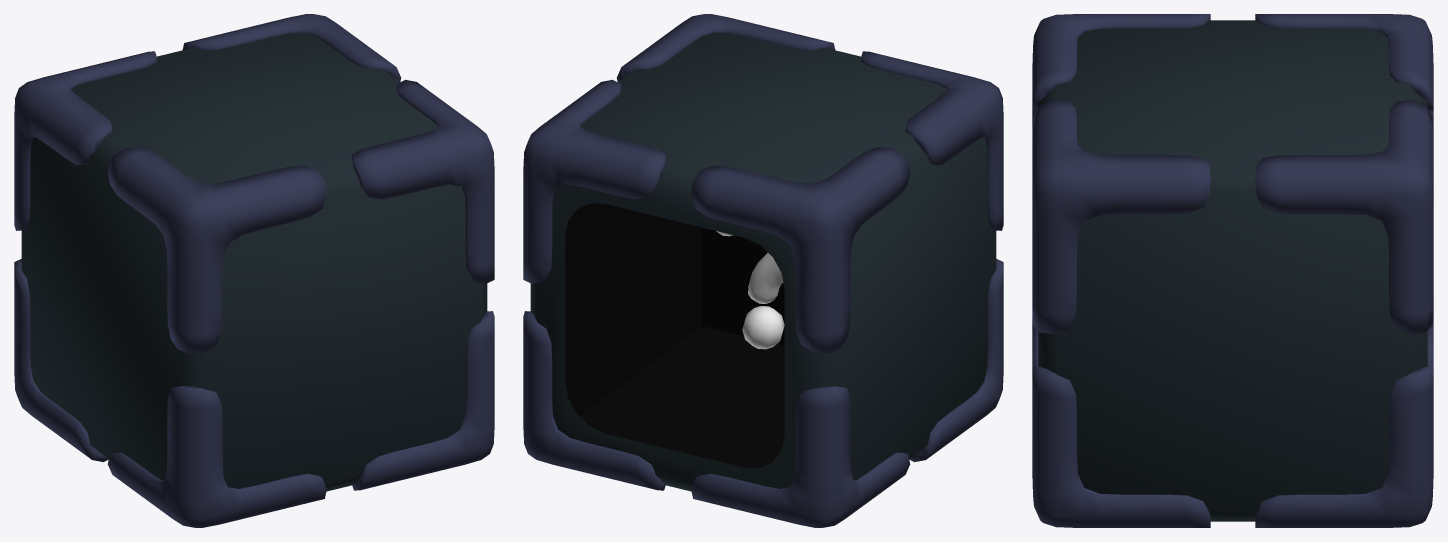
The model's file is blocks_powerup.fbx.
3 views of the same model, side by side, from view 1: azimuth 30°, elevation 25°; view 2: azimuth 150°, elevation 25°; view 3: azimuth 270°, elevation 25° (orthographic). The views are drawn at different scales.
Visible parts, largest first — view 1: Cube.012, Corners; view 2: Cube.012, Corners, inner, questionMark; view 3: Cube.012, Corners.
Part boxes in pixels (x1,y1,x2,y2): Cube.012: (21,32,487,491); Corners: (14,14,494,527); Cube.012: (530,32,996,491); Corners: (523,14,1003,527); inner: (565,203,784,467); questionMark: (716,231,784,349); Cube.012: (1038,20,1427,521); Corners: (1032,14,1433,527).
Bounding box in the file's own units: 200 × 200 × 200.
